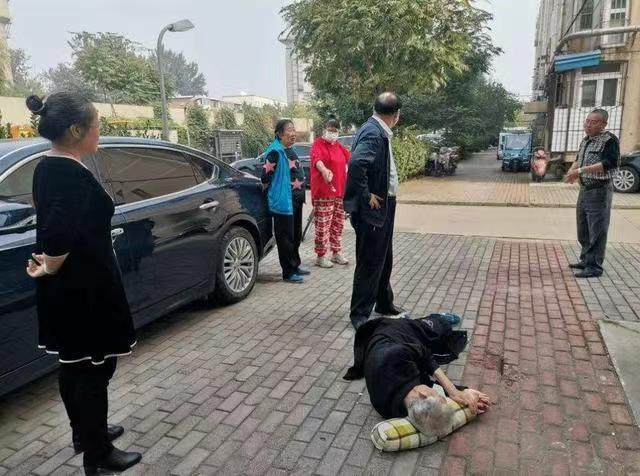down: (351, 303, 497, 441)
up: (20, 83, 139, 476), (343, 88, 413, 326), (557, 104, 623, 285), (258, 119, 317, 286), (305, 111, 358, 269)
